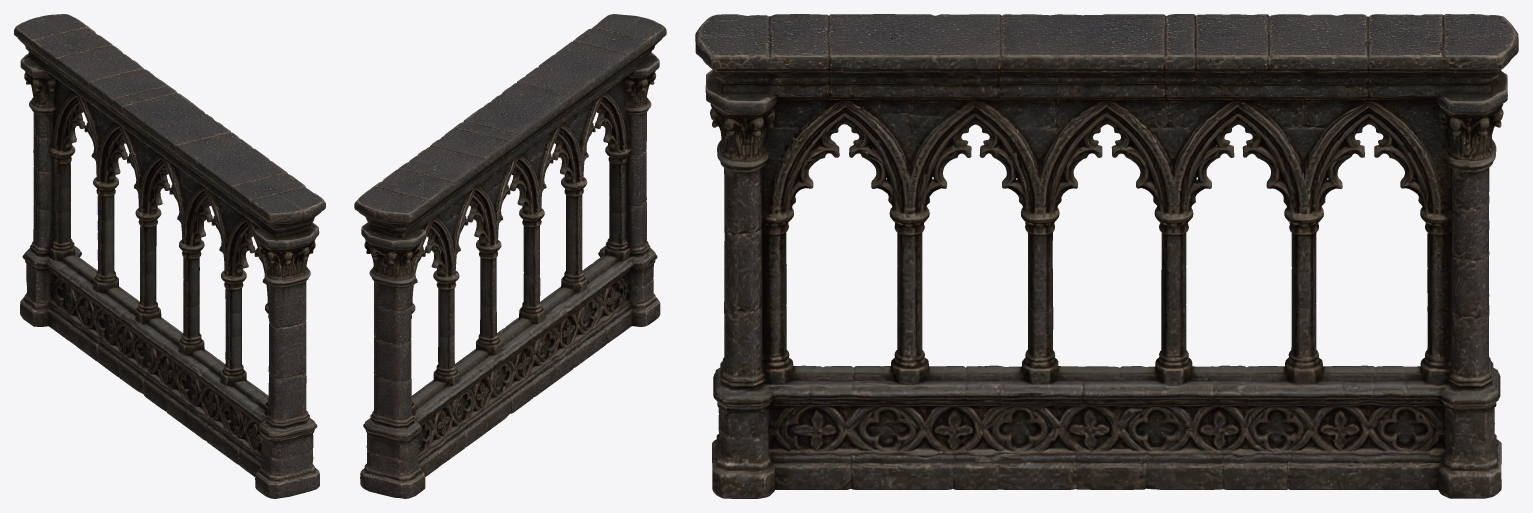
Rendered from raw_frieze2.glb.
3 renders of one model, left to right at view 1: azimuth 30°, elevation 25°; view 2: azimuth 150°, elevation 25°; view 3: azimuth 270°, elevation 25°, orthographic. The views are drawn at different scales.
Parts seen in each view (by area): view 1: frieze2; view 2: frieze2; view 3: frieze2.
Part boxes in pixels (box(x1,y1,x2,y2)): frieze2: box(14, 14, 325, 498); frieze2: box(354, 14, 666, 498); frieze2: box(695, 14, 1518, 498).
Size of the model in its own units: 0.1235 by 0.5964 by 1.
1 material, 1 textured.
